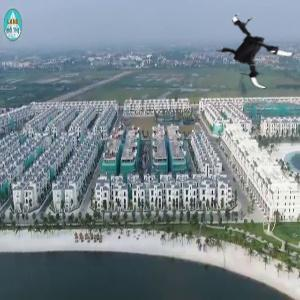drone: (208, 5, 297, 94)
